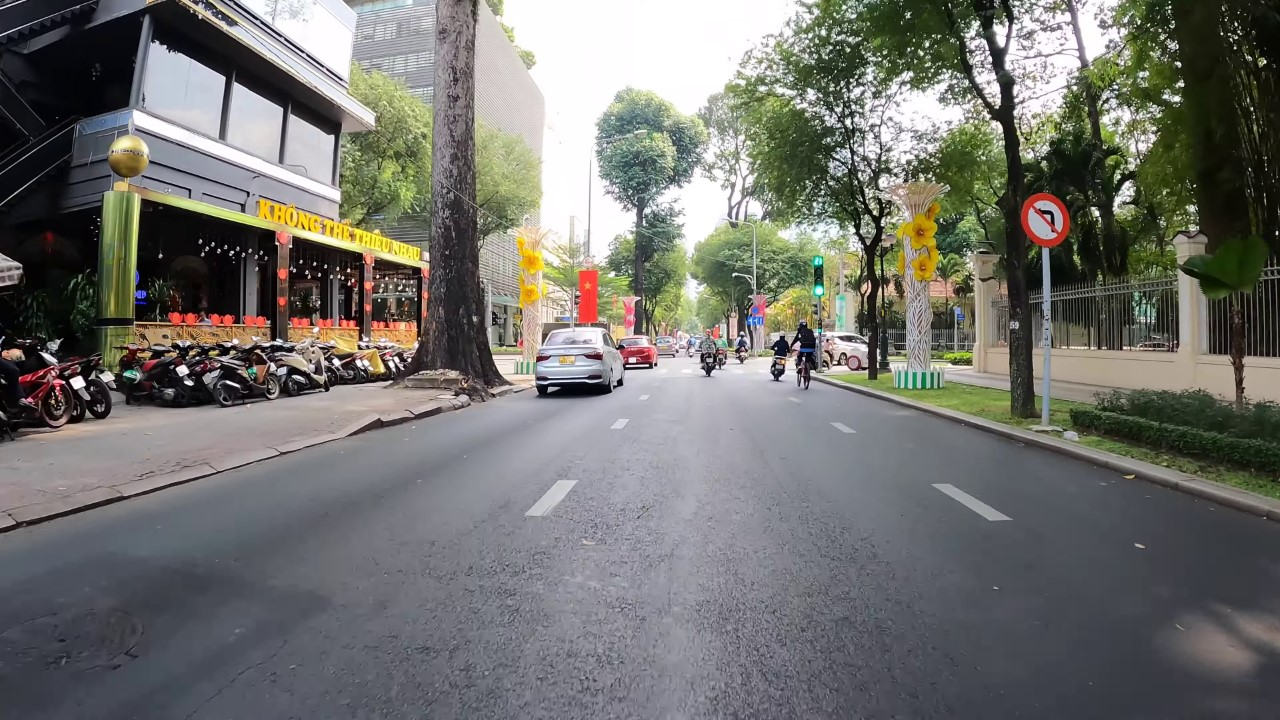cam_re_trai: (1021, 189, 1070, 248)
